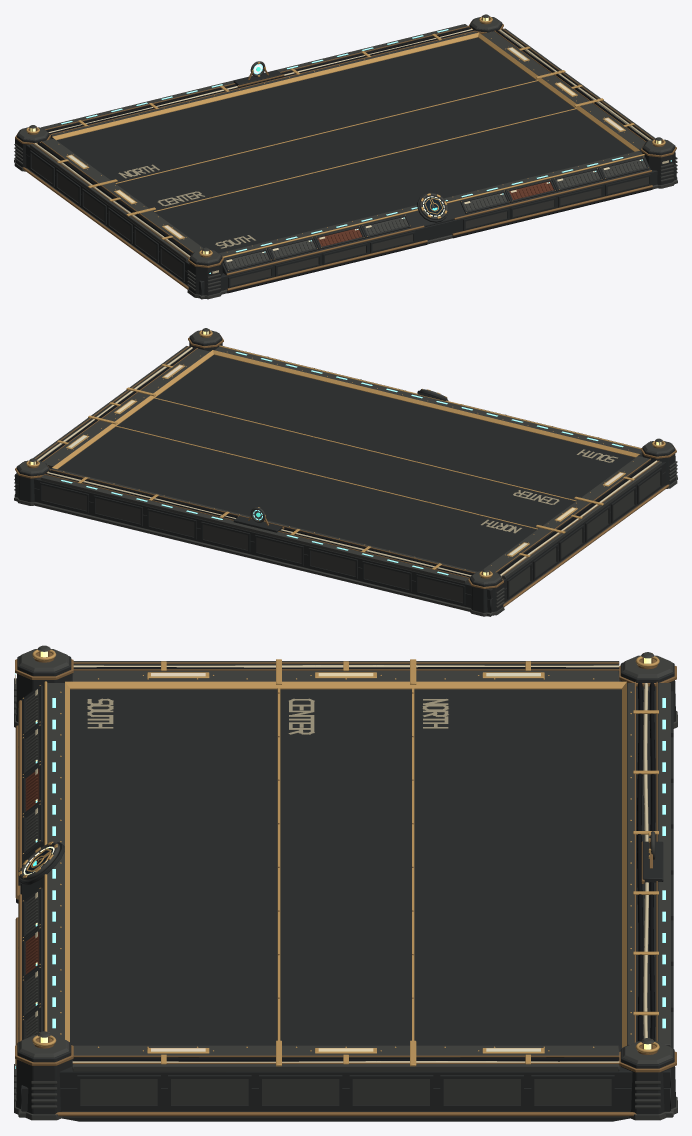
The model's file is copper.glb.
3 renders of one model, top to bottom at view 1: azimuth 30°, elevation 25°; view 2: azimuth 150°, elevation 25°; view 3: azimuth 270°, elevation 25°, orthographic. The views are drawn at different scales.
Parts seen in each view (by area): view 1: body_board_steel, body_board_panel, body_board_trim_bright, body_board_trim, body_board_rubber, body_board_ivory, body_board_container, body_accent_glow; view 2: body_board_steel, body_board_panel, body_board_trim_bright, body_board_trim, body_board_rubber, body_board_ivory, body_accent_glow; view 3: body_board_steel, body_board_panel, body_board_trim_bright, body_board_trim, body_board_rubber, body_board_ivory, body_accent_glow, body_board_container.
Part boxes in pixels (left/top/right/bottom): body_board_steel: left=15, top=19, right=676, bottom=295; body_board_panel: left=14, top=16, right=677, bottom=299; body_board_trim_bright: left=52, top=32, right=648, bottom=270; body_board_trim: left=15, top=21, right=676, bottom=290; body_board_rubber: left=37, top=27, right=652, bottom=293; body_board_ivory: left=34, top=29, right=668, bottom=273; body_board_container: left=317, top=181, right=553, bottom=246; body_accent_glow: left=61, top=29, right=671, bottom=273; body_board_steel: left=15, top=332, right=676, bottom=612; body_board_panel: left=14, top=330, right=677, bottom=616; body_board_trim_bright: left=52, top=345, right=640, bottom=569; body_board_trim: left=15, top=335, right=676, bottom=606; body_board_rubber: left=39, top=347, right=654, bottom=577; body_board_ivory: left=37, top=347, right=657, bottom=576; body_accent_glow: left=61, top=352, right=623, bottom=575; body_board_steel: left=16, top=656, right=675, bottom=1121; body_board_panel: left=14, top=649, right=677, bottom=1120; body_board_trim_bright: left=18, top=659, right=658, bottom=1066; body_board_trim: left=15, top=659, right=676, bottom=1116; body_board_rubber: left=16, top=667, right=655, bottom=1061; body_board_ivory: left=15, top=665, right=648, bottom=1065; body_accent_glow: left=15, top=673, right=665, bottom=1068; body_board_container: left=25, top=768, right=39, bottom=974.
Size of the model in its own units: 18.87 by 2.36 by 12.87.
